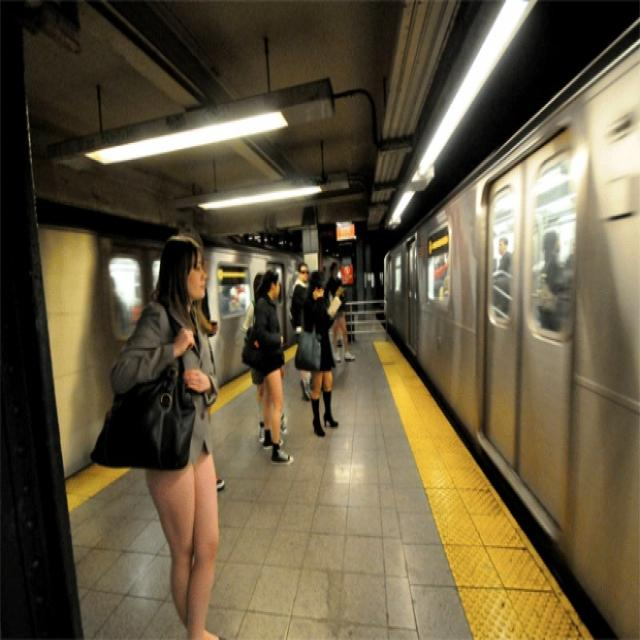body: (106, 230, 240, 638), (238, 262, 296, 468), (291, 267, 343, 440), (239, 270, 288, 444), (200, 248, 226, 492), (531, 230, 576, 334), (288, 259, 314, 404), (530, 266, 575, 346), (323, 261, 357, 363), (97, 272, 132, 370), (562, 236, 584, 345), (495, 233, 515, 337), (218, 280, 251, 314), (429, 250, 450, 298), (487, 241, 498, 317), (319, 263, 330, 320), (273, 278, 284, 305), (287, 270, 297, 298)
